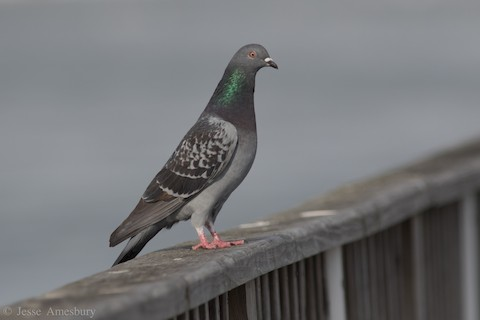pigeon: (100, 36, 281, 271)
